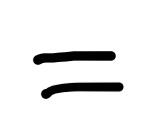eqv: (34, 51, 124, 98)
